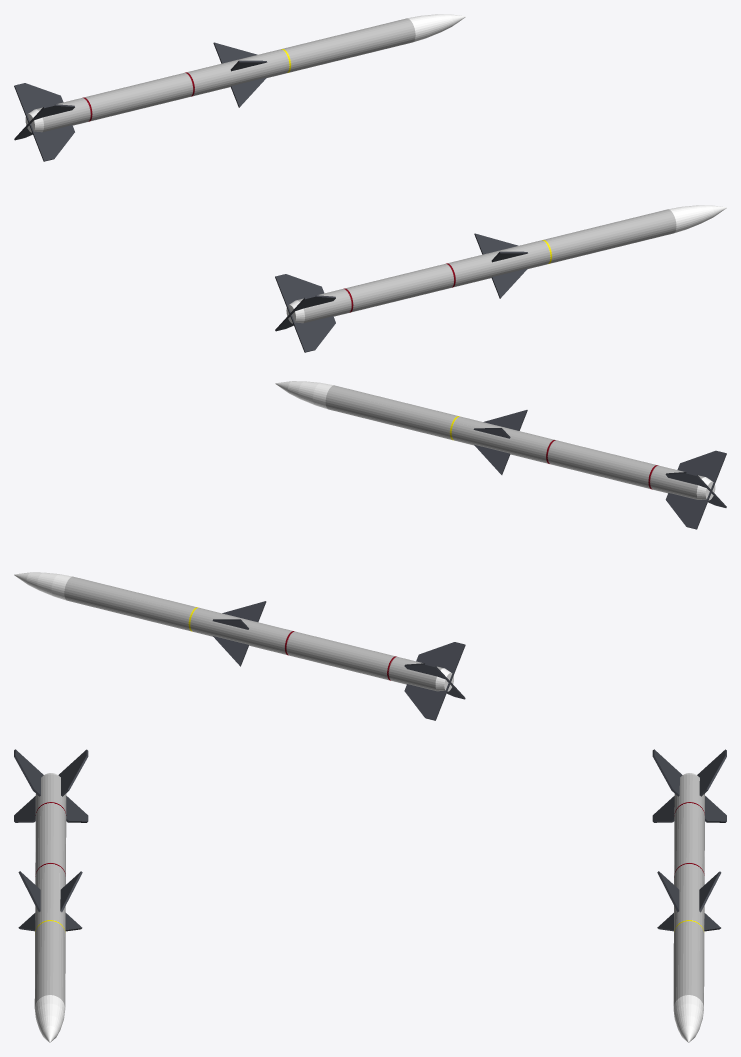
Rendered from f15eaim12023.glb.
3 renders of one model, top to bottom at view 1: azimuth 30°, elevation 25°; view 2: azimuth 150°, elevation 25°; view 3: azimuth 270°, elevation 25°, orthographic. The views are drawn at different scales.
Parts seen in each view (by area): view 1: 円柱.003, 円柱.006; view 2: 円柱.006, 円柱.003; view 3: 円柱.006, 円柱.003.
Part boxes in pixels (x1,y1,x2,y2): 円柱.003: (275,205,726,352); 円柱.006: (14,14,465,161); 円柱.006: (14,572,465,720); 円柱.003: (275,381,726,529); 円柱.006: (652,749,726,1042); 円柱.003: (14,749,88,1042).
Bounding box in the file's own units: 4.39 × 0.5295 × 5.07.
Materials: 4 (4 with a texture image).
